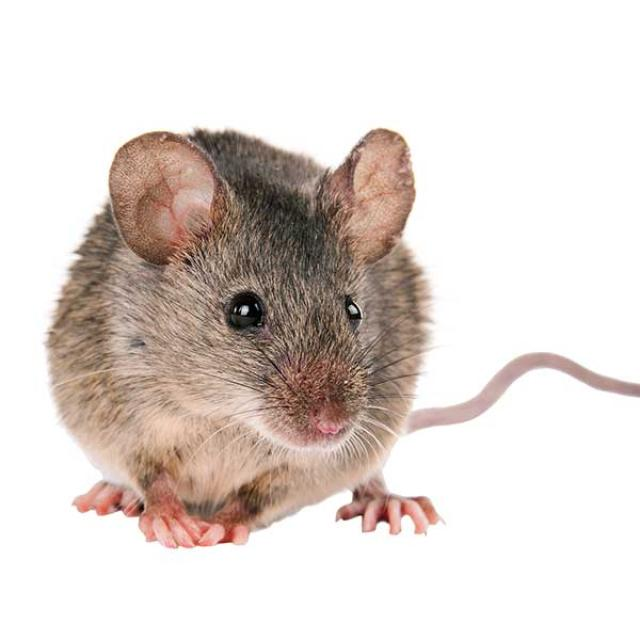rat: (42, 119, 640, 553)
